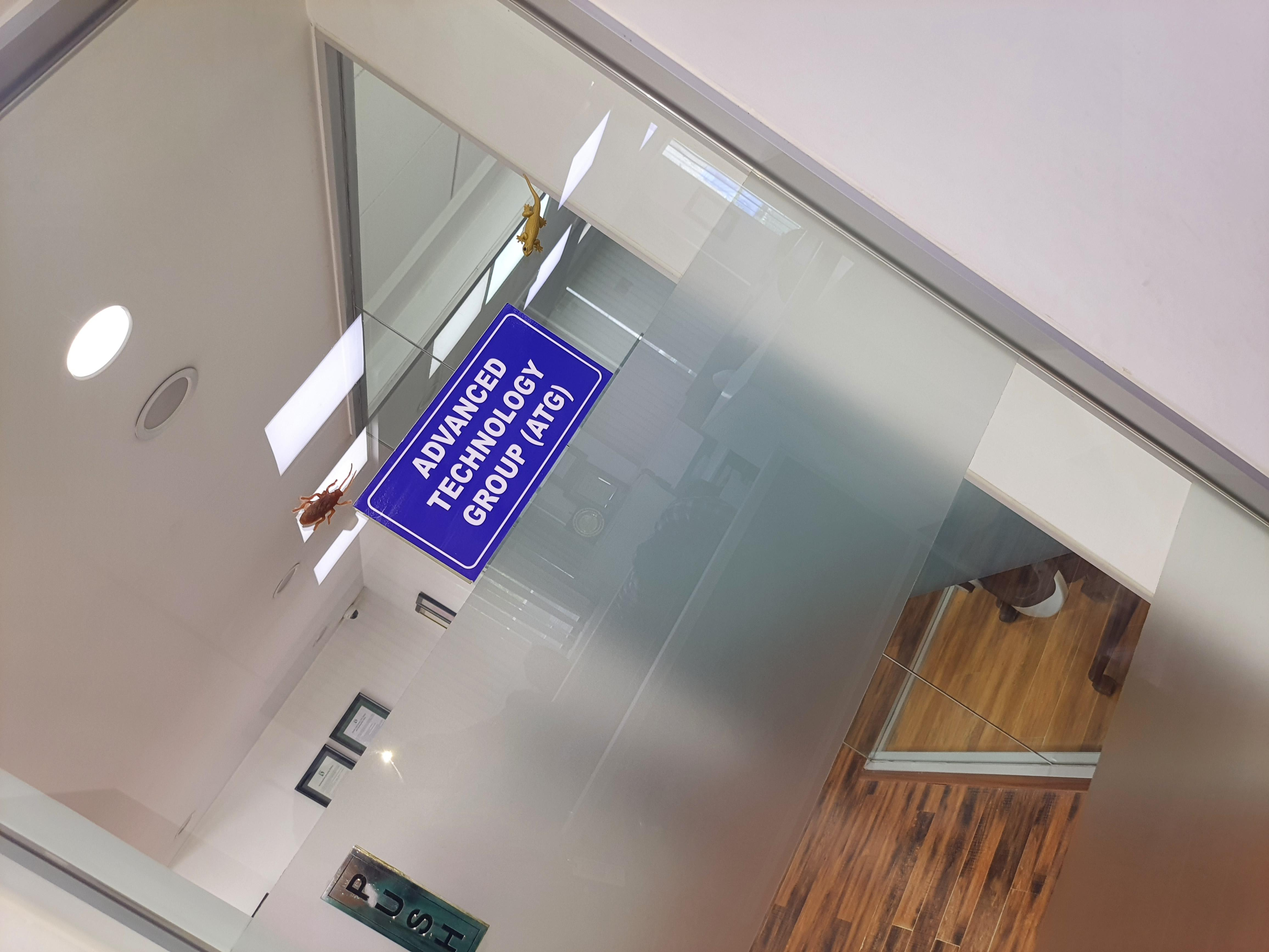cockroach: (542, 204, 641, 265)
lizard: (912, 375, 1040, 427)
